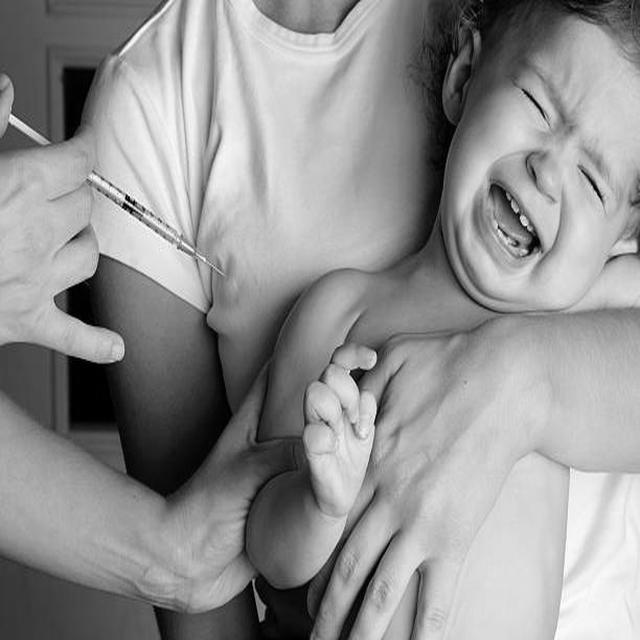Fear: (453, 18, 629, 312)
